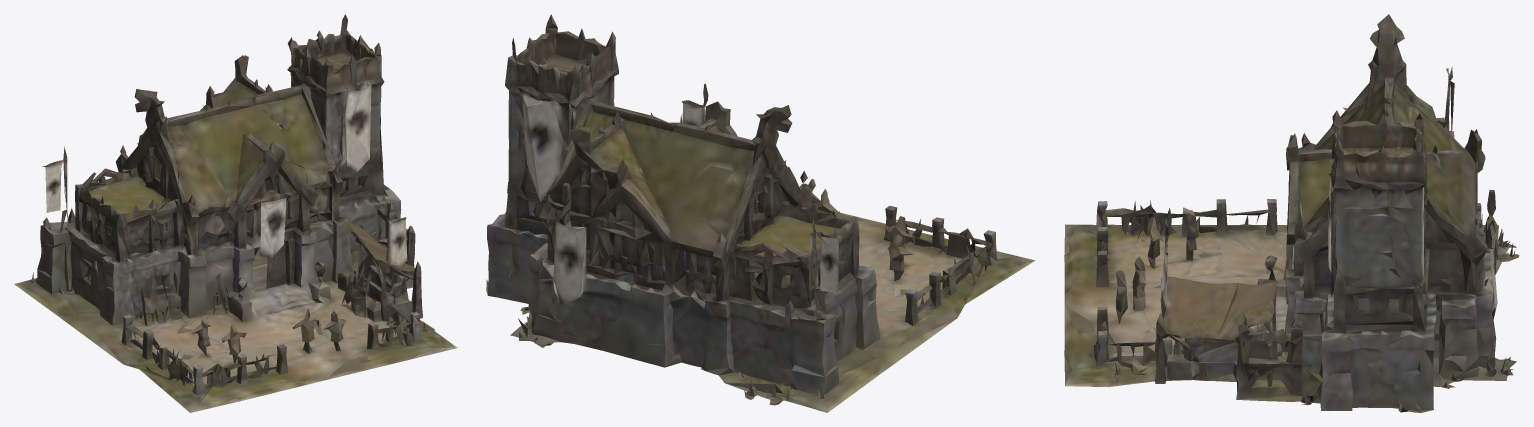
Rendered from Wolfhold_Barracks_II.glb.
The picture shows the model from 3 angles, left to right: view 1: azimuth 30°, elevation 25°; view 2: azimuth 150°, elevation 25°; view 3: azimuth 270°, elevation 25°; orthographic projection. The views are drawn at different scales.
Parts seen in each view (by area): view 1: Wolfhold_Barracks_II_LOD0; view 2: Wolfhold_Barracks_II_LOD0; view 3: Wolfhold_Barracks_II_LOD0.
Part boxes in pixels (<box>): Wolfhold_Barracks_II_LOD0: <box>14,14,457,412</box>; Wolfhold_Barracks_II_LOD0: <box>486,14,1035,412</box>; Wolfhold_Barracks_II_LOD0: <box>1064,14,1519,412</box>.
Size of what is drawn, in the model's own units: 17 by 11.19 by 16.87.
Materials: 1 (1 with a texture image).
